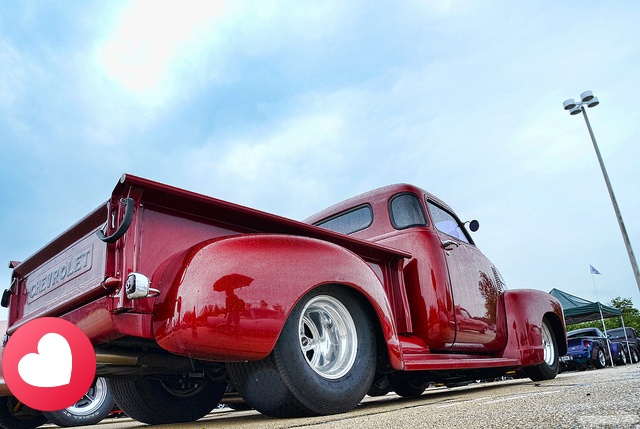love: (2, 317, 96, 411)
